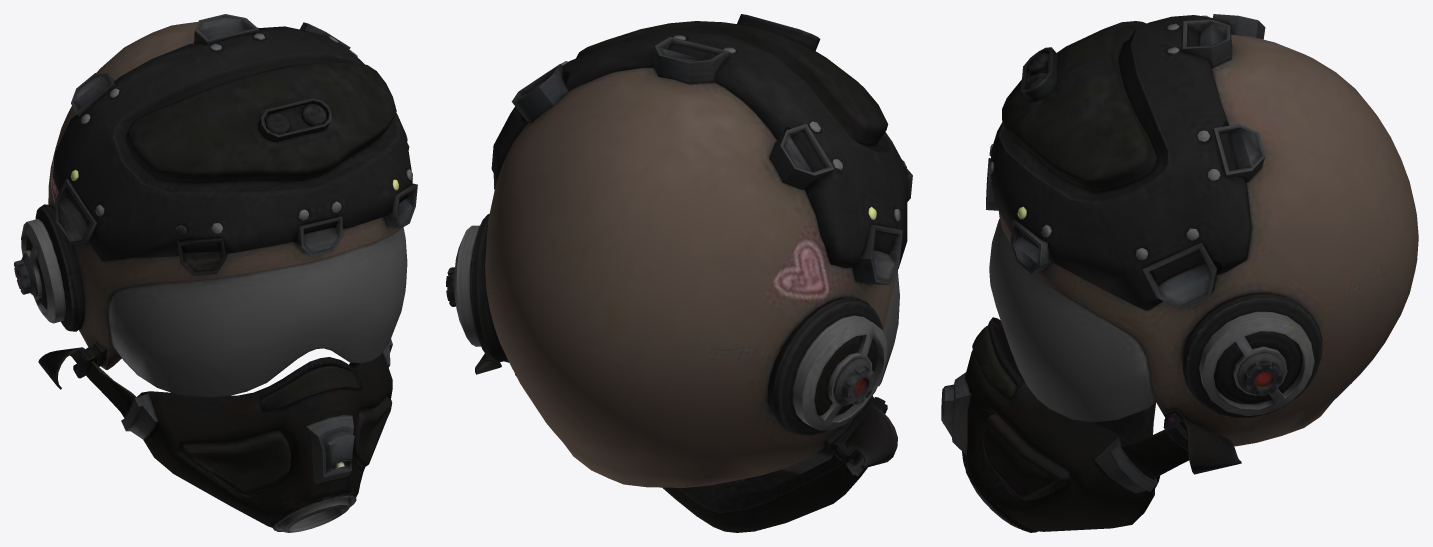
File: item.armor.pilots_helmet.glb
3 views of the same model, side by side, from view 1: azimuth 30°, elevation 25°; view 2: azimuth 150°, elevation 25°; view 3: azimuth 270°, elevation 25° (orthographic). The views are drawn at different scales.
Visible parts, largest first — view 1: Helmet; view 2: Helmet; view 3: Helmet.
Boxes of the visible parts, x1,y1,x2,y2 form: Helmet: [14, 14, 417, 532]; Helmet: [446, 14, 912, 532]; Helmet: [941, 14, 1418, 532].
Bounding box in the file's own units: 1.02 × 1.2 × 1.05.
Materials: 1 (1 with a texture image).
